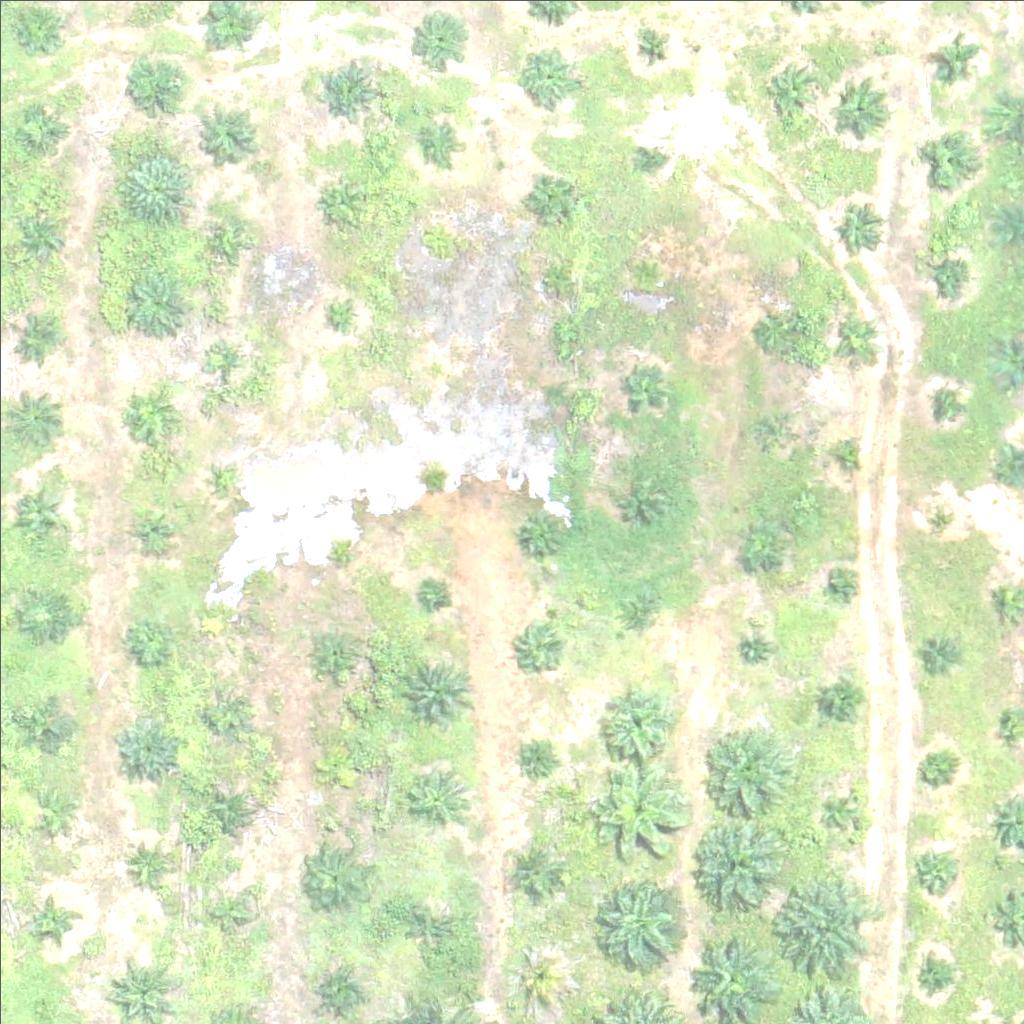Kelapa_Sawit: (588, 765, 688, 866), (770, 873, 870, 974), (593, 677, 681, 765), (702, 728, 790, 816), (690, 820, 778, 908), (683, 933, 771, 1021), (594, 888, 681, 976), (121, 265, 196, 341), (117, 47, 192, 123), (117, 151, 192, 227), (400, 653, 475, 729), (200, 105, 263, 168), (315, 59, 378, 122), (114, 952, 177, 1015), (112, 716, 175, 779), (197, 881, 260, 944), (761, 58, 824, 121), (305, 843, 367, 906), (405, 764, 467, 827), (518, 44, 580, 107), (401, 894, 463, 957), (828, 76, 890, 139), (744, 305, 794, 356), (414, 12, 464, 63), (524, 175, 574, 226), (18, 589, 68, 640), (20, 707, 70, 758), (200, 785, 250, 836), (124, 842, 174, 893), (199, 691, 249, 742), (320, 964, 370, 1015), (311, 745, 361, 796), (123, 618, 173, 669), (13, 486, 63, 537), (831, 311, 881, 362), (16, 10, 66, 60), (17, 106, 67, 156), (510, 848, 560, 898), (124, 385, 174, 435), (27, 788, 77, 838), (305, 625, 355, 675), (15, 220, 65, 270), (10, 315, 60, 365), (128, 502, 178, 552), (923, 241, 973, 291), (925, 132, 975, 182), (836, 199, 886, 249), (516, 619, 566, 669), (513, 505, 563, 555), (616, 366, 666, 416), (616, 473, 666, 523), (609, 587, 659, 637), (736, 517, 786, 567), (817, 677, 867, 727), (509, 948, 559, 998), (814, 786, 864, 836), (909, 850, 959, 900), (423, 119, 461, 157), (30, 901, 68, 939), (938, 39, 976, 77), (319, 176, 356, 214), (632, 28, 669, 66), (627, 253, 665, 290), (753, 408, 791, 445), (917, 956, 954, 994), (915, 752, 952, 790), (535, 258, 572, 296), (919, 629, 956, 666), (421, 580, 446, 606), (209, 224, 234, 250), (216, 470, 241, 495), (211, 342, 236, 367), (328, 299, 353, 324), (328, 543, 353, 568), (638, 144, 663, 169), (830, 571, 855, 596), (837, 441, 862, 466), (925, 502, 950, 527), (931, 390, 956, 415), (520, 745, 545, 770), (422, 354, 447, 379), (743, 635, 767, 660)
